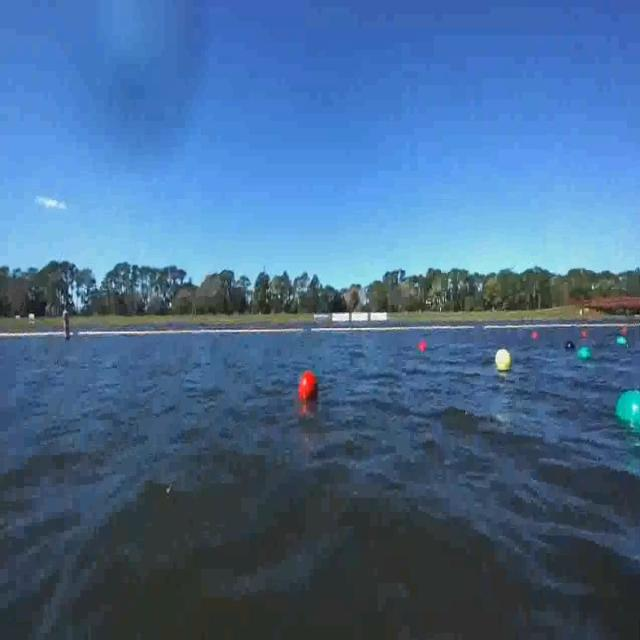black-buoy: (564, 341, 576, 353)
green-buoy: (614, 392, 640, 436), (577, 348, 591, 362), (617, 338, 628, 348)
red-buoy: (298, 370, 316, 400), (420, 342, 428, 354)
yellow-buoy: (495, 349, 512, 372), (346, 440, 355, 455)
